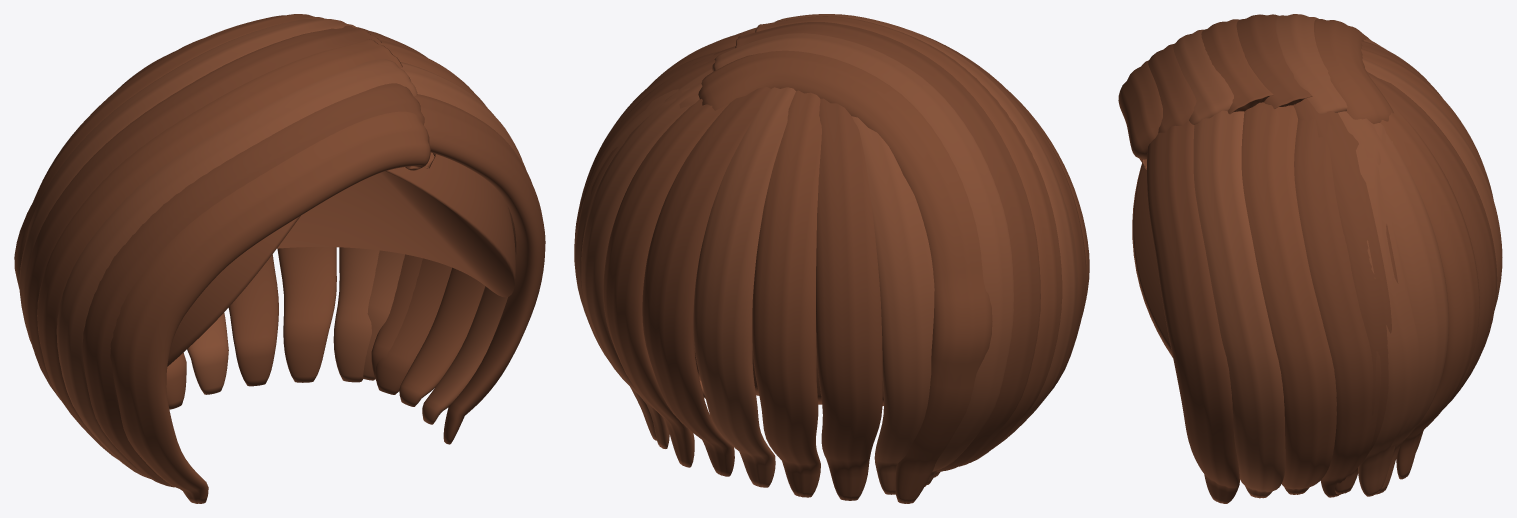
Rendered from Masculine-flow-hair.glb.
The picture shows the model from 3 angles, left to right: view 1: azimuth 30°, elevation 25°; view 2: azimuth 150°, elevation 25°; view 3: azimuth 270°, elevation 25°; orthographic projection. The views are drawn at different scales.
Parts seen in each view (by area): view 1: 226 hair / Hair / sculpted 0.004, 226 hair / Hair / sculpted 1.005, 226 hair / Hair / sculpted 2.004, 226 hair / Hair / sculpted 1.001; view 2: 226 hair / Hair / sculpted 0.004, 226 hair / Hair / sculpted 2.004, 226 hair / Hair / sculpted 1.005; view 3: 226 hair / Hair / sculpted 1.005, 226 hair / Hair / sculpted 2.004, 226 hair / Hair / sculpted 0.004, 226 hair / Hair / sculpted 1.001.
Part boxes in pixels (x1=…): 226 hair / Hair / sculpted 0.004: x1=14, y1=14, x2=487, y2=503; 226 hair / Hair / sculpted 1.005: x1=24, y1=25, x2=545, y2=487; 226 hair / Hair / sculpted 2.004: x1=19, y1=18, x2=525, y2=478; 226 hair / Hair / sculpted 1.001: x1=167, y1=154, x2=515, y2=366; 226 hair / Hair / sculpted 0.004: x1=603, y1=16, x2=1089, y2=503; 226 hair / Hair / sculpted 2.004: x1=574, y1=14, x2=1077, y2=494; 226 hair / Hair / sculpted 1.005: x1=575, y1=22, x2=1086, y2=500; 226 hair / Hair / sculpted 1.005: x1=1147, y1=14, x2=1497, y2=503; 226 hair / Hair / sculpted 2.004: x1=1173, y1=14, x2=1502, y2=498; 226 hair / Hair / sculpted 0.004: x1=1118, y1=19, x2=1493, y2=494; 226 hair / Hair / sculpted 1.001: x1=1132, y1=159, x2=1172, y2=357.
Bounding box in the file's own units: 1.1 × 0.9381 × 0.8151.
